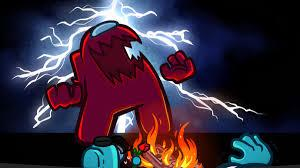amongus: (73, 23, 175, 140)
